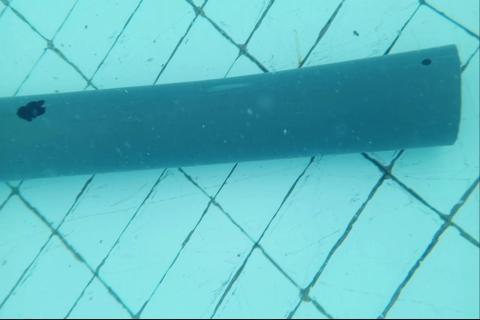kebocoran: (16, 99, 47, 122), (420, 57, 432, 67)
